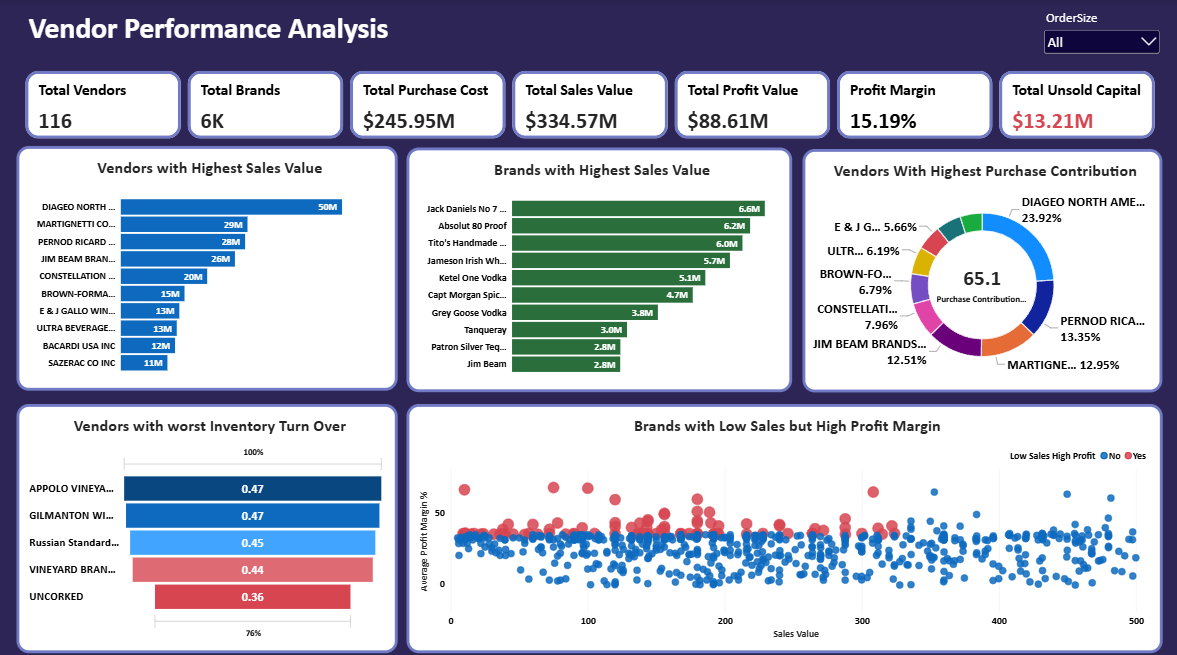

The page's visual inventory and layout, read from the dashboard file:
{"tool":"powerbi","page":{"name":"Page 1","canvas":[1920,1080],"ordinal":0},"visuals":[{"type":"textbox","box":[46.4,17.1,702.7,87.8],"z":0},{"type":"cardVisual","fields":{"Data":["final_vendor_performance_summary.unique_vendors","final_vendor_performance_summary.unique_brands","final_vendor_performance_summary.total_purchase_value","final_vendor_performance_summary.total_Sales_value","final_vendor_performance_summary.total_profit_value","final_vendor_performance_summary.profit_margin","final_vendor_performance_summary.UnsoldCapital"]},"box":[29.3,104.9,1861.6,134.2],"z":1000},{"type":"clusteredBarChart","title":"Brands with Highest Sales Value","fields":{"Category":["final_vendor_performance_summary.Description"],"Y":["Sum(final_vendor_performance_summary.TotalSalesDollars)"]},"box":[661.5,240.8,627,397.8],"z":2000,"group":"g2"},{"type":"scatterChart","title":"Brands with Low Sales but High Profit Margin","fields":{"Category":["final_vendor_performance_summary.Description"],"Series":["brandPerformance.LowSalesHighProfit"],"Size":["Avg(brandPerformance.ProfitMargin)"],"X":["Sum(final_vendor_performance_summary.TotalSalesDollars)"],"Y":["final_vendor_performance_summary.ProfitMargin"]},"box":[661.2,658.8,1229.7,405],"z":2000},{"type":"group","id":"g1","title":"Group 2","box":[26.8,658.8,619.7,405],"z":3000},{"type":"group","id":"g2","title":"Group 1","box":[26.8,239.1,1864,400.1],"z":4000},{"type":"clusteredBarChart","title":"Vendors with Highest Sales Value","fields":{"Category":["final_vendor_performance_summary.VendorName"],"Y":["Sum(final_vendor_performance_summary.TotalSalesDollars)"]},"box":[26.8,239.1,619.7,398],"z":4000,"group":"g2"},{"type":"slicer","fields":{"Values":["final_vendor_performance_summary.OrderSize"]},"box":[1693.2,17.1,197.6,87.8],"z":5000},{"type":"funnel","title":"Vendors with worst Inventory Turn Over","fields":{"Category":["vendorlowturnover.VendorName"],"Y":["Avg(vendorlowturnover.AvgStockTurnover)"]},"box":[26.8,658.8,619.7,405],"z":5000,"group":"g1"},{"type":"donutChart","title":"Vendors With Highest Purchase Contribution","fields":{"Category":["final_vendor_performance_summary.VendorName"],"Y":["Sum(final_vendor_performance_summary.PurchaseContribution%)"]},"box":[1305.3,243.4,585.6,395.8],"z":6000,"group":"g2"}]}

Visuals, with their boxes in screenshot pixels (x1, y1, x2, y2), scaled from the page's 1920x1080 canvas onto the 1177x655 screenshot:
textbox: bbox(28, 10, 459, 64)
cardVisual - final_vendor_performance_summary.unique_vendors x final_vendor_performance_summary.unique_brands: bbox(18, 64, 1159, 145)
"Brands with Highest Sales Value" clusteredBarChart: bbox(406, 146, 790, 387)
"Brands with Low Sales but High Profit Margin" scatterChart: bbox(405, 400, 1159, 645)
"Group 2" group: bbox(16, 400, 396, 645)
"Group 1" group: bbox(16, 145, 1159, 388)
"Vendors with Highest Sales Value" clusteredBarChart: bbox(16, 145, 396, 386)
slicer - final_vendor_performance_summary.OrderSize: bbox(1038, 10, 1159, 64)
"Vendors with worst Inventory Turn Over" funnel: bbox(16, 400, 396, 645)
"Vendors With Highest Purchase Contribution" donutChart: bbox(800, 148, 1159, 388)
